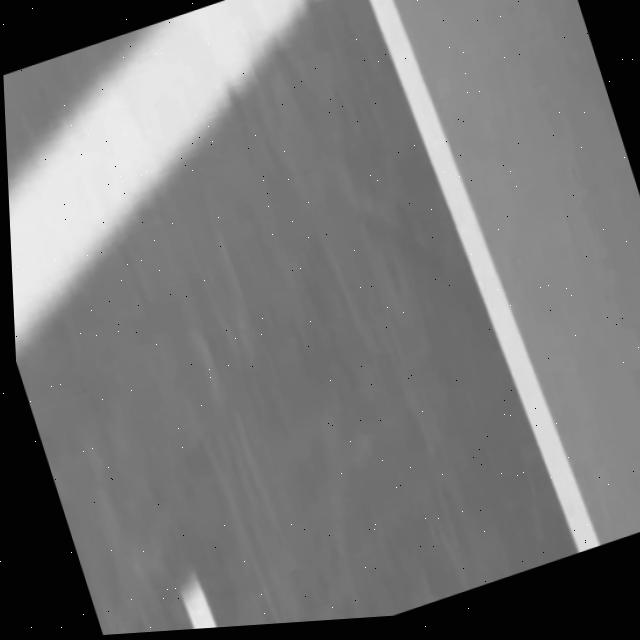center: (180, 574, 216, 629)
right: (369, 0, 599, 553)
